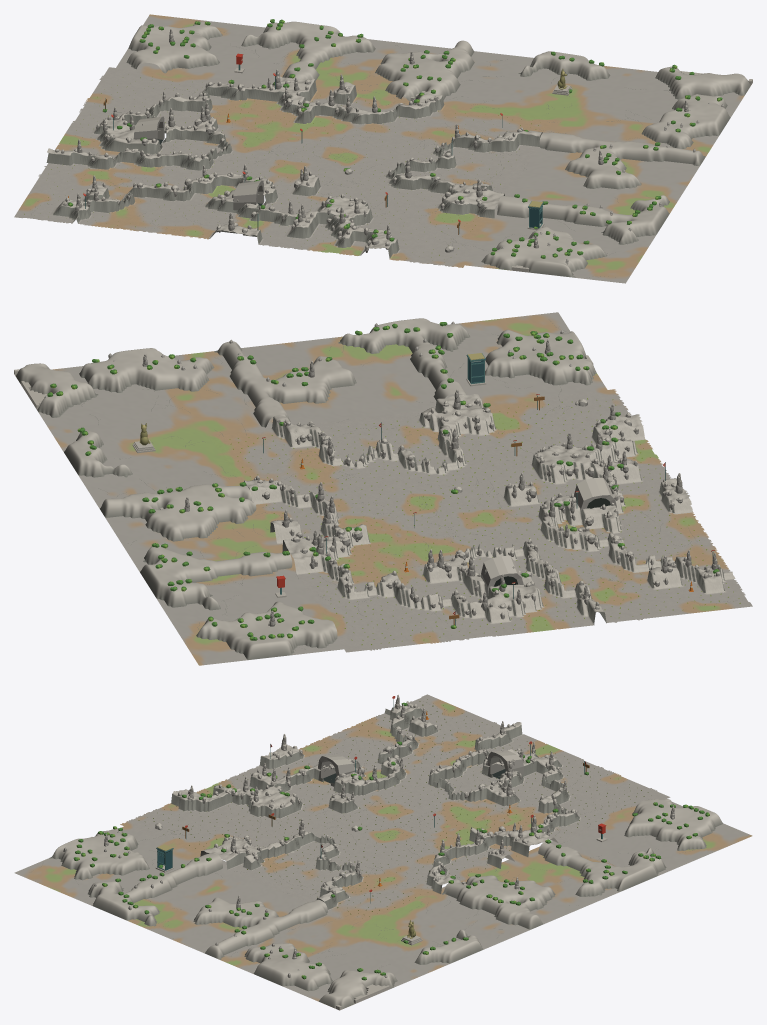
File: terrain-props.glb
3 renders of one model, top to bottom at view 1: azimuth 30°, elevation 25°; view 2: azimuth 150°, elevation 25°; view 3: azimuth 270°, elevation 25°, orthographic. The views are drawn at different scales.
Parts seen in each view (by area): view 1: HM14-source-adapted-terrain-props; view 2: HM14-source-adapted-terrain-props; view 3: HM14-source-adapted-terrain-props.
Boxes of the visible parts, box(x1,y1,x2,y2) form: HM14-source-adapted-terrain-props: box(14, 14, 752, 283); HM14-source-adapted-terrain-props: box(14, 312, 752, 665); HM14-source-adapted-terrain-props: box(14, 694, 752, 1010).
Bounding box in the file's own units: 146 × 6.69 × 144.
